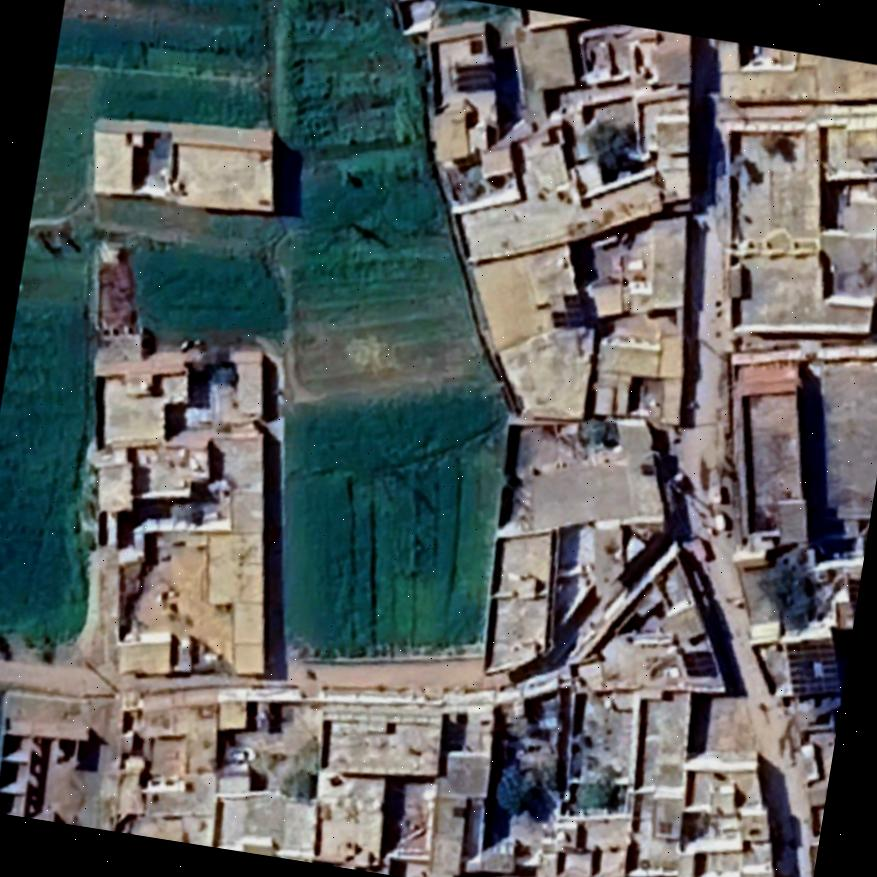Solarpanel: (772, 626, 851, 710), (544, 285, 597, 337), (672, 640, 728, 686), (839, 570, 861, 626), (455, 63, 497, 91)
